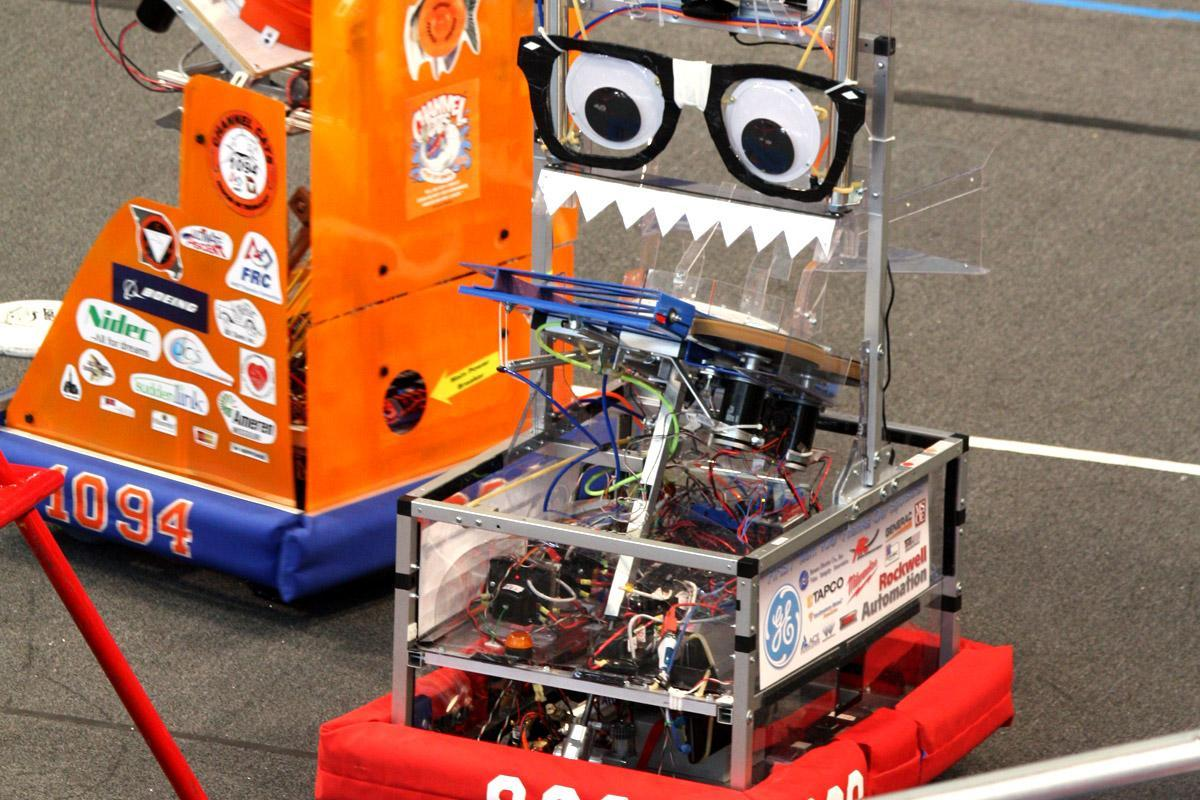robot: (312, 0, 1016, 800), (0, 0, 646, 607)
